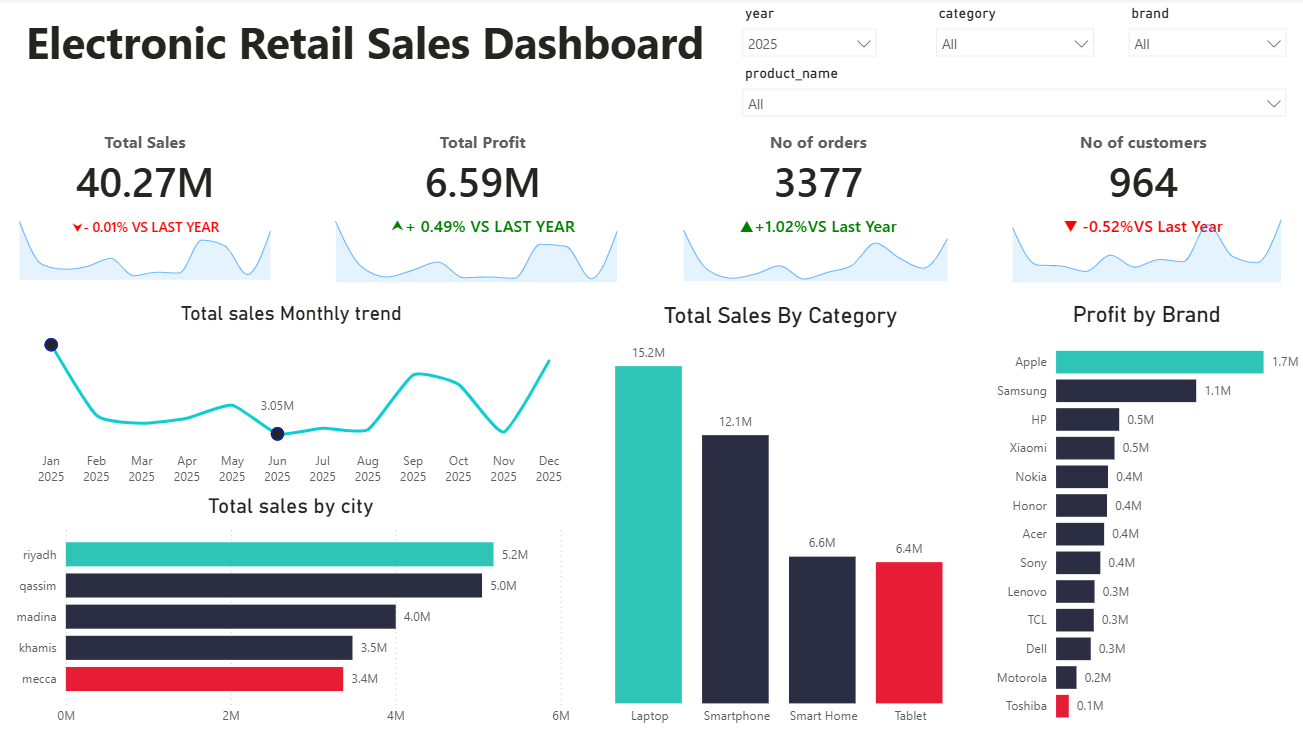

The page's visual inventory and layout, read from the dashboard file:
{"tool":"powerbi","page":{"name":"Overview","canvas":[1280,720],"ordinal":0},"visuals":[{"type":"slicer","fields":{"Values":["date.year"]},"box":[717.8,1,151.6,61.1],"z":0},{"type":"cardVisual","fields":{"Data":["all_measures.total sales"]},"box":[7.4,117.4,273.1,163.1],"z":0,"group":"g1"},{"type":"cardVisual","fields":{"Data":["all_measures.total profit"]},"box":[338.8,117.4,271.1,164.4],"z":0,"group":"g2"},{"type":"cardVisual","fields":{"Data":["all_measures.No of orders"]},"box":[666.4,117.4,272.7,163.9],"z":0,"group":"g3"},{"type":"cardVisual","fields":{"Data":["all_measures.No of customers"]},"box":[985.3,117.4,272.7,163.9],"z":0,"group":"g4"},{"type":"lineChart","fields":{"Category":["date.month name"],"Y":["all_measures.No of customers"]},"box":[978.7,199.1,291.6,84],"z":1000,"group":"g4"},{"type":"lineChart","fields":{"Y":["all_measures.total sales"],"Category":["date.month name"]},"box":[7.4,202.6,273.1,77.9],"z":1000,"group":"g1"},{"type":"lineChart","fields":{"Category":["date.month name"],"Y":["all_measures.total profit"]},"box":[315.9,203.1,305.2,80.3],"z":1000,"group":"g2"},{"type":"lineChart","fields":{"Category":["date.month name"],"Y":["all_measures.No of orders"]},"box":[656.6,212.4,286.7,69.2],"z":1000,"group":"g3"},{"type":"columnChart","title":"Total Sales By Category","fields":{"Category":["products.category"],"Y":["all_measures.total sales"]},"box":[564.9,298.4,401.1,421.9],"z":1000},{"type":"lineChart","title":"Total sales Monthly trend","fields":{"Y":["all_measures.total sales","all_measures.cf for month sales"],"Category":["date.month-year"]},"box":[8.6,297.1,556.4,187.1],"z":2000},{"type":"barChart","title":"Profit by Brand","fields":{"Category":["products.brand"],"Y":["all_measures.total profit"]},"box":[967.3,296.8,312.9,423.4],"z":3000},{"type":"textbox","box":[0,8.6,717.8,81.9],"z":4000},{"type":"slicer","fields":{"Values":["products.product_name"]},"box":[717.8,59.9,552.7,61.1],"z":5000},{"type":"slicer","fields":{"Values":["products.category"]},"box":[907.3,1,174.9,61.1],"z":6000},{"type":"slicer","fields":{"Values":["products.brand"]},"box":[1095.7,1,174.9,61.1],"z":7000},{"type":"barChart","title":"Total sales by city","fields":{"Y":["all_measures.total sales"],"Category":["customers.city"]},"box":[9,484,556,236],"z":16000},{"type":"group","id":"g1","title":"Group 1","box":[7.4,117.4,273.1,163.1],"z":16001},{"type":"group","id":"g2","title":"Group 2","box":[315.9,117.4,305.2,165.6],"z":16002},{"type":"group","id":"g3","title":"Group 3","box":[656.6,117.4,286.7,164.2],"z":16003},{"type":"group","id":"g4","title":"Group 4","box":[978.7,117.4,291.6,165.6],"z":16004}]}

Visuals, with their boxes in screenshot pixels (x1, y1, x2, y2), scaled from the page's 1280x720 canvas onto the 1303x732 screenshot:
slicer - date.year: 731,1,885,63
cardVisual - all_measures.total sales: 8,119,286,285
cardVisual - all_measures.total profit: 345,119,621,286
cardVisual - all_measures.No of orders: 678,119,956,286
cardVisual - all_measures.No of customers: 1003,119,1281,286
lineChart - date.month name x all_measures.No of customers: 996,202,1293,288
lineChart - all_measures.total sales x date.month name: 8,206,286,285
lineChart - date.month name x all_measures.total profit: 322,206,632,288
lineChart - date.month name x all_measures.No of orders: 668,216,960,286
"Total Sales By Category" columnChart: 575,303,983,731
"Total sales Monthly trend" lineChart: 9,302,575,492
"Profit by Brand" barChart: 985,302,1302,731
textbox: 0,9,731,92
slicer - products.product_name: 731,61,1293,123
slicer - products.category: 924,1,1102,63
slicer - products.brand: 1115,1,1293,63
"Total sales by city" barChart: 9,492,575,731
"Group 1" group: 8,119,286,285
"Group 2" group: 322,119,632,288
"Group 3" group: 668,119,960,286
"Group 4" group: 996,119,1293,288
